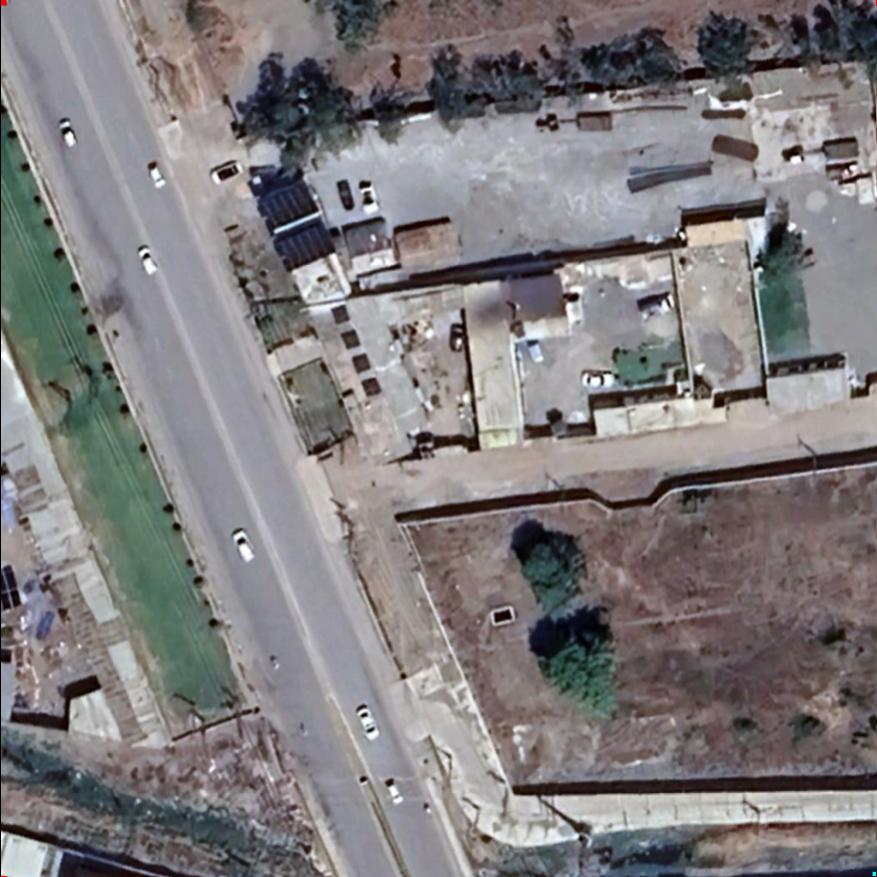Solarpanel: (245, 171, 341, 276), (322, 302, 385, 404)
